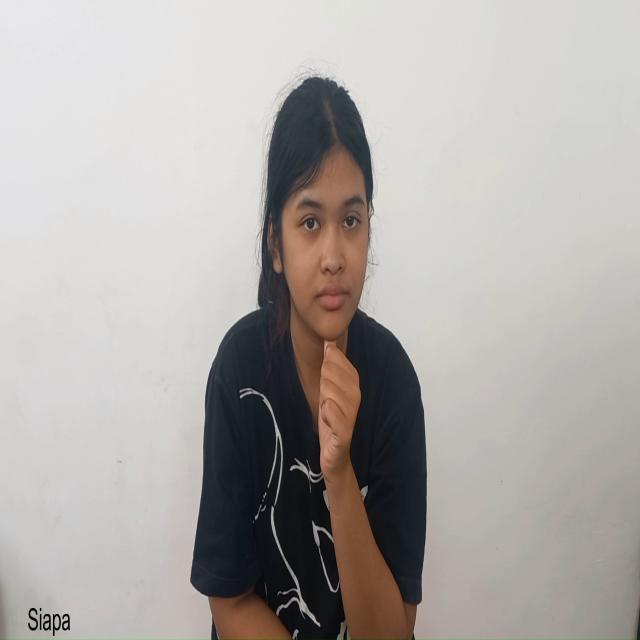Siapa -BISINDO-: (258, 64, 381, 522)
